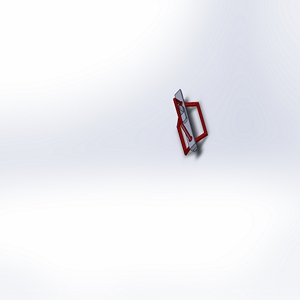submarine: (153, 80, 220, 173)
